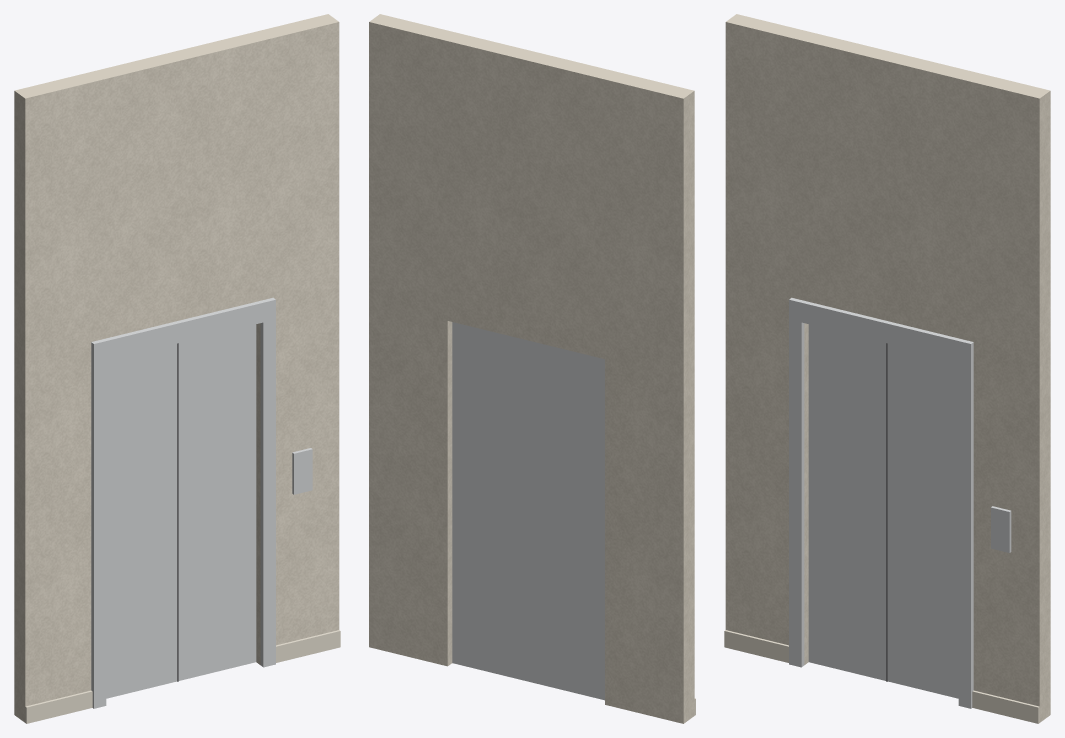
The model's file is elevator_door_tall.glb.
3 views of the same model, side by side, from view 1: azimuth 30°, elevation 25°; view 2: azimuth 150°, elevation 25°; view 3: azimuth 330°, elevation 25° (orthographic).
Parts seen in each view (by area): view 1: elevator_door_tall_plaster, elevator_door_tall_metal, elevator_door_tall_trim, elevator_door_tall_dark; view 2: elevator_door_tall_plaster, elevator_door_tall_metal; view 3: elevator_door_tall_plaster, elevator_door_tall_metal, elevator_door_tall_trim, elevator_door_tall_dark.
Part boxes in pixels (x1,y1,x2,y2): elevator_door_tall_plaster: (14, 14, 339, 722); elevator_door_tall_metal: (91, 297, 312, 708); elevator_door_tall_trim: (25, 630, 340, 723); elevator_door_tall_dark: (177, 343, 178, 681); elevator_door_tall_plaster: (369, 14, 694, 723); elevator_door_tall_metal: (452, 322, 604, 700); elevator_door_tall_plaster: (725, 14, 1050, 722); elevator_door_tall_metal: (789, 297, 1011, 708); elevator_door_tall_trim: (724, 630, 1039, 723); elevator_door_tall_dark: (886, 343, 887, 681).
Size of the model in its own units: 2 by 3.8 by 0.15.
4 materials, 1 textured.
